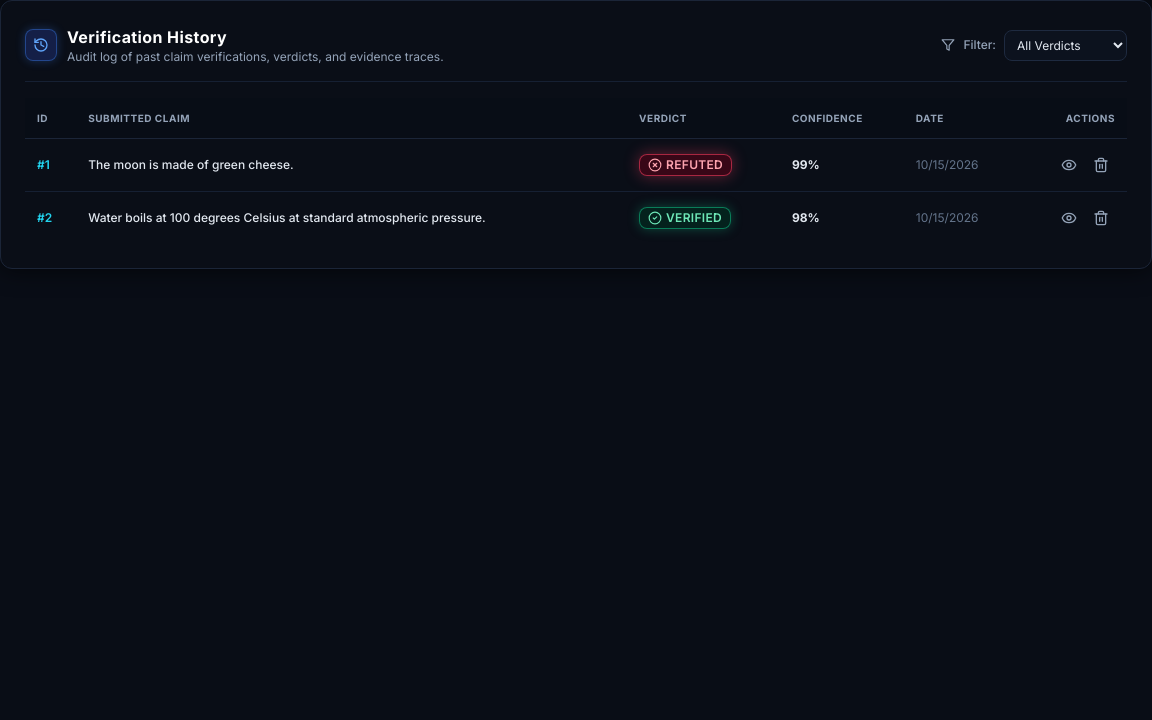
Test: HistoryView Component › deletes history item upon confirmation in modal and refreshes list
Check: the text "The moon is made of green cheese." is shown, box [76, 138, 627, 192]
Click the button named "Delete verification 1" at (1101, 165), box [1087, 151, 1115, 179]
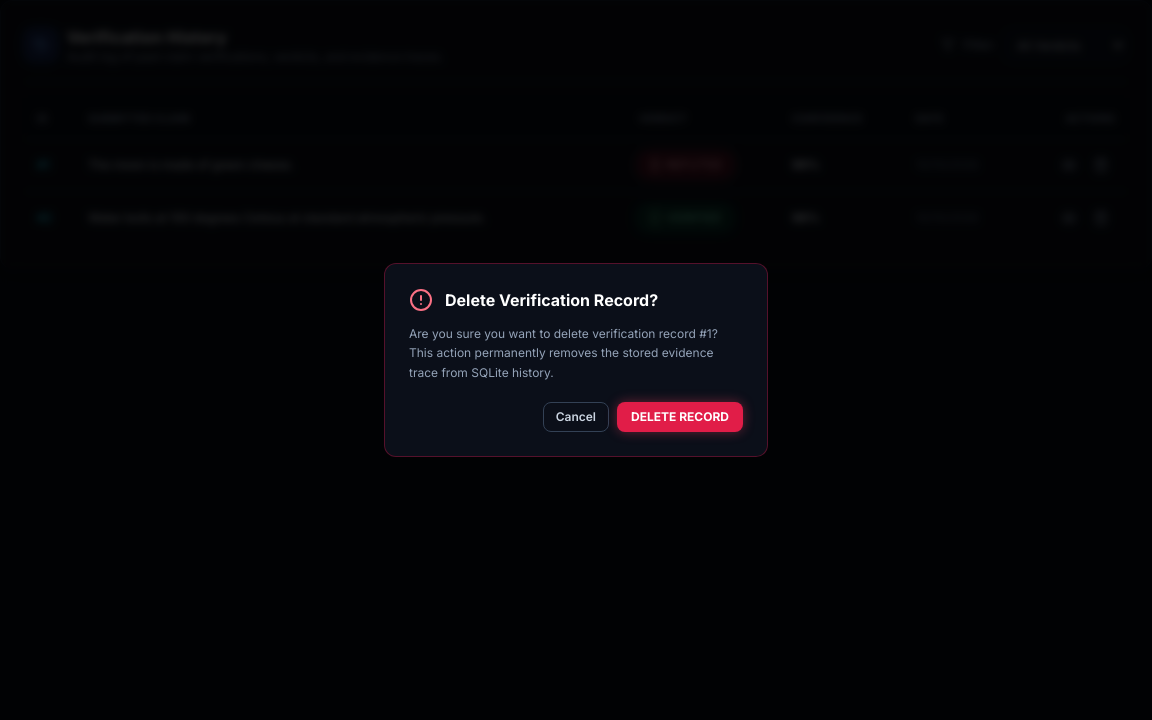
Check: the text "delete verification record #1" is shown, box [409, 324, 743, 382]
Click the button "Delete Record" at (680, 417), box [617, 402, 743, 432]
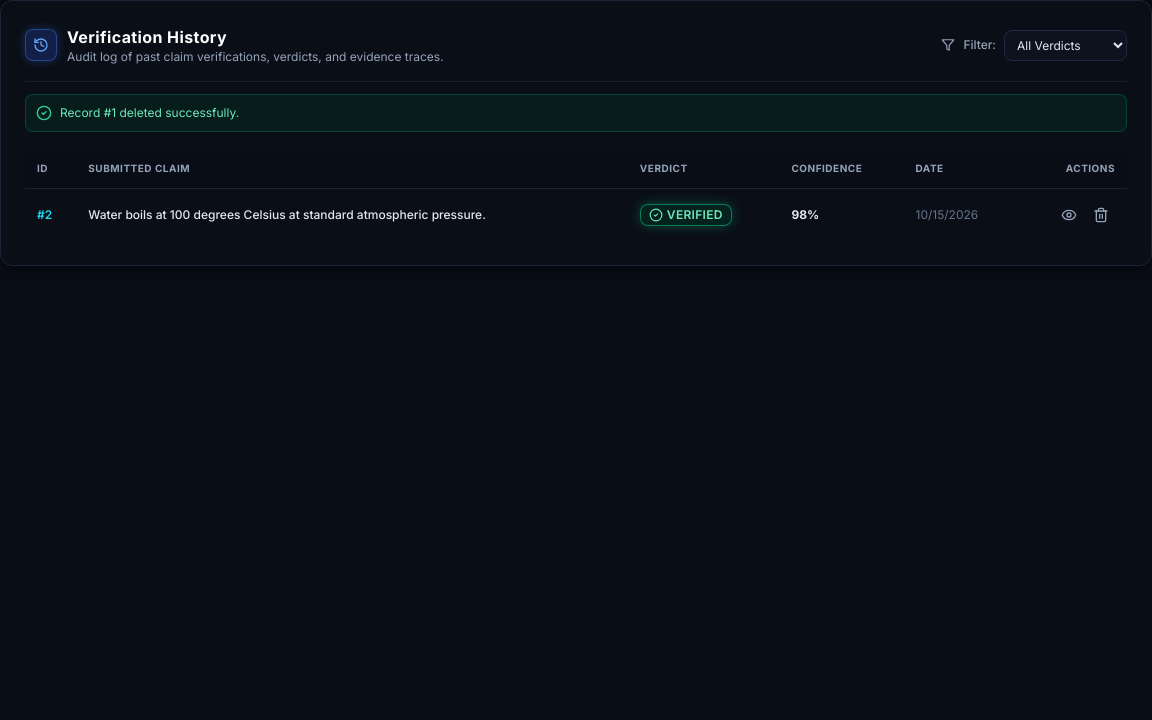
Check: the text "Record #1 deleted successfully." is shown, box [60, 105, 239, 121]
